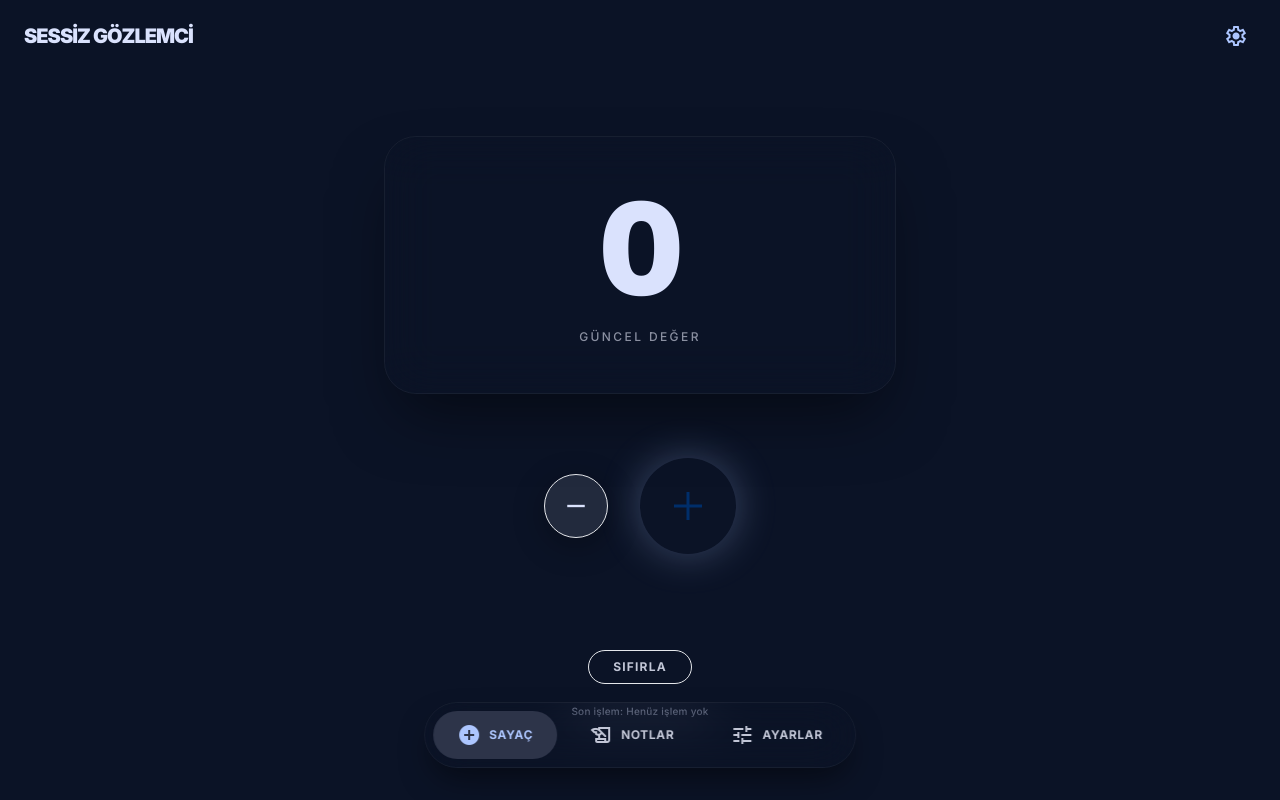
App integration › opens reset modal and confirms
Click the 3rd button "add" at (688, 506), box x1=640 y1=458 x2=736 y2=554
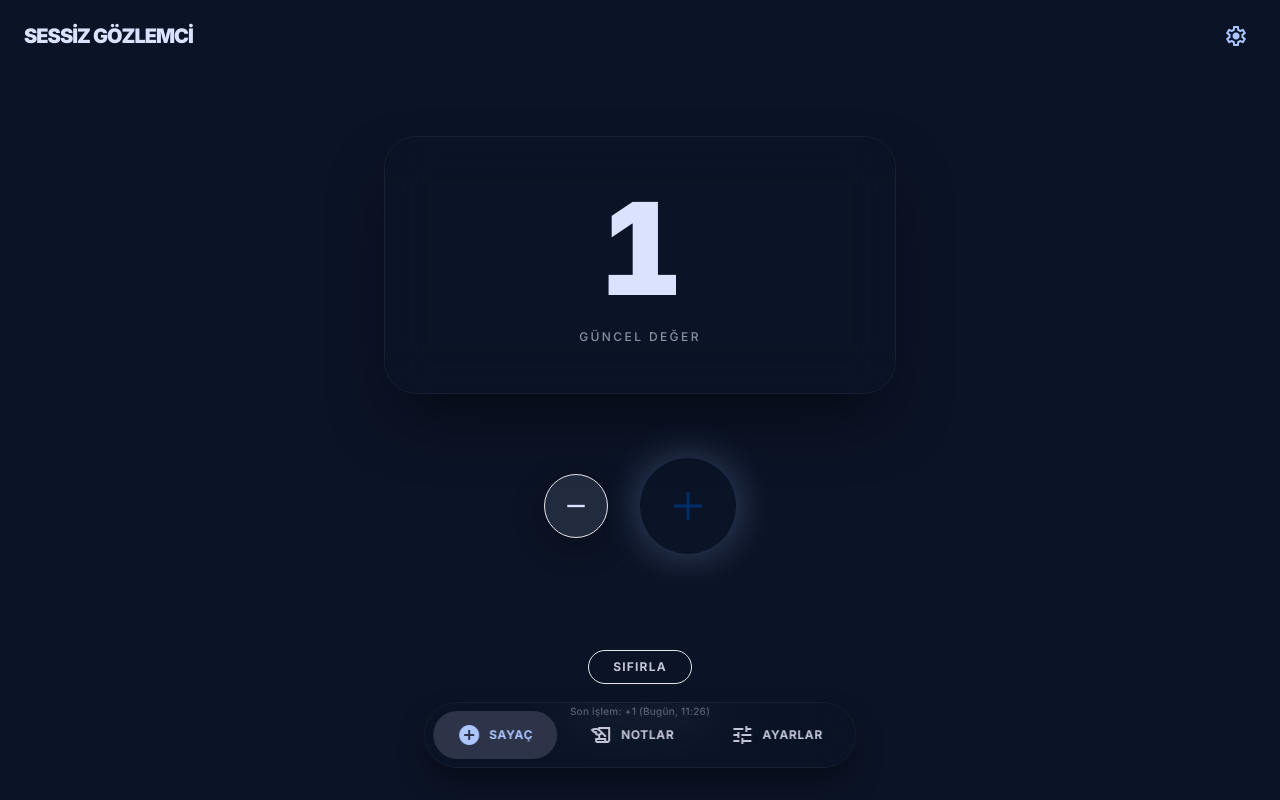
Click the 3rd button "add" at (688, 506), box x1=640 y1=458 x2=736 y2=554
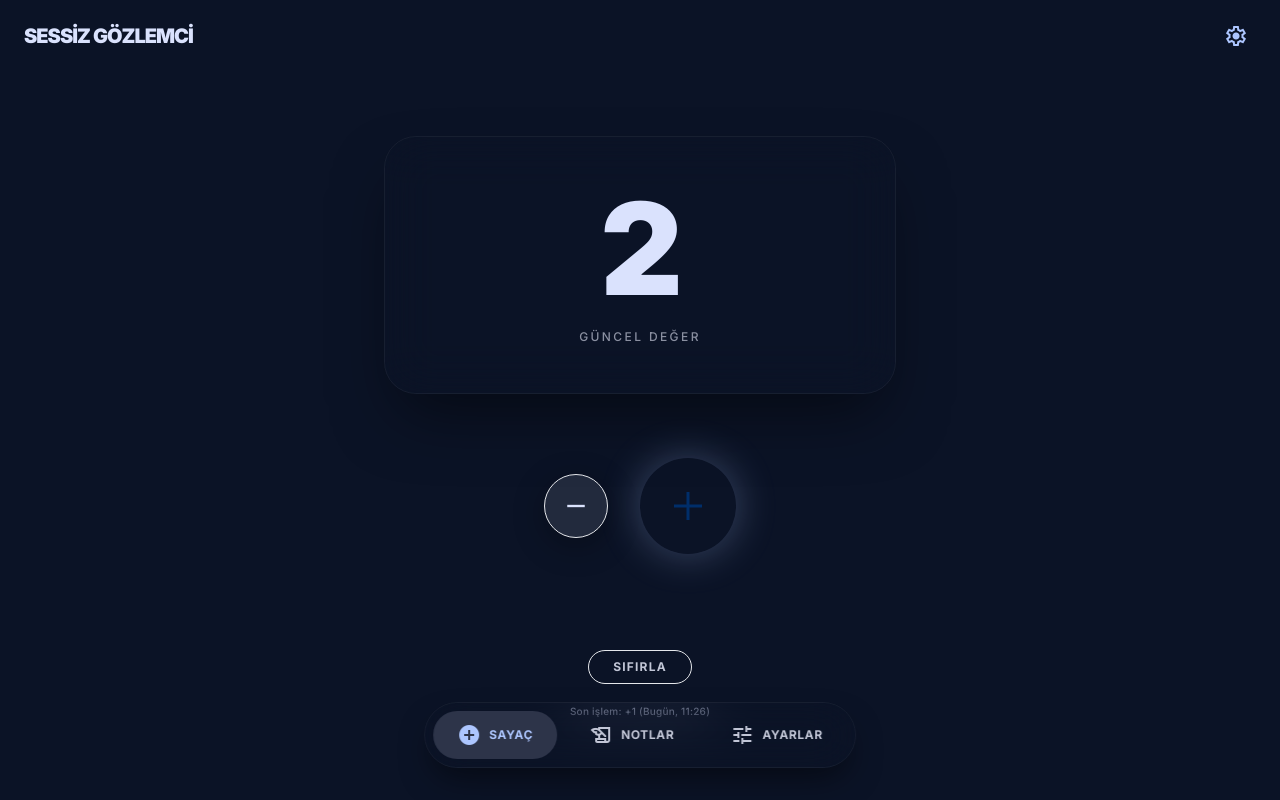
Expected: the text "2" is shown, x1=600 y1=185 x2=680 y2=313
Click the button "SIFIRLA" at (640, 667), box x1=588 y1=650 x2=692 y2=684
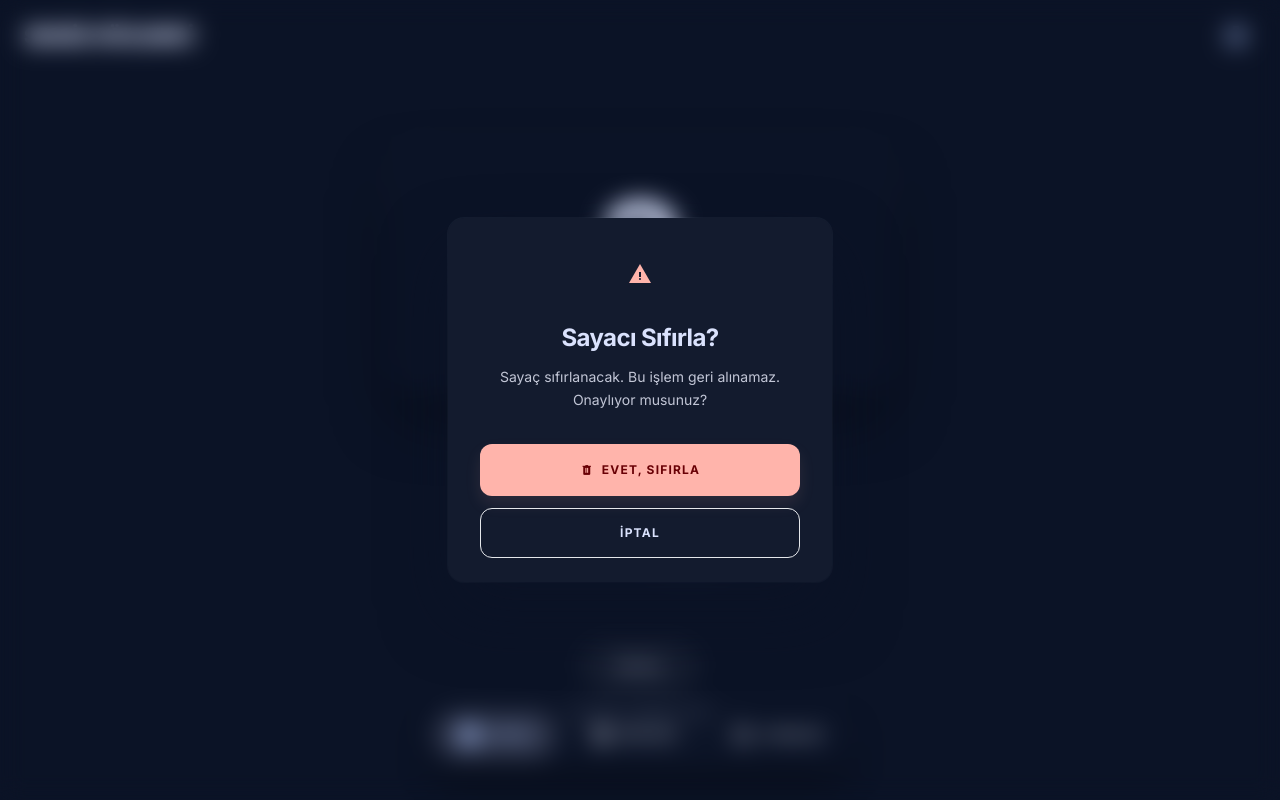
Expected: the heading "Sayacı Sıfırla?" is shown, x1=561 y1=322 x2=719 y2=354
Click the text "EVET, SIFIRLA" at (651, 470), box x1=602 y1=462 x2=700 y2=478
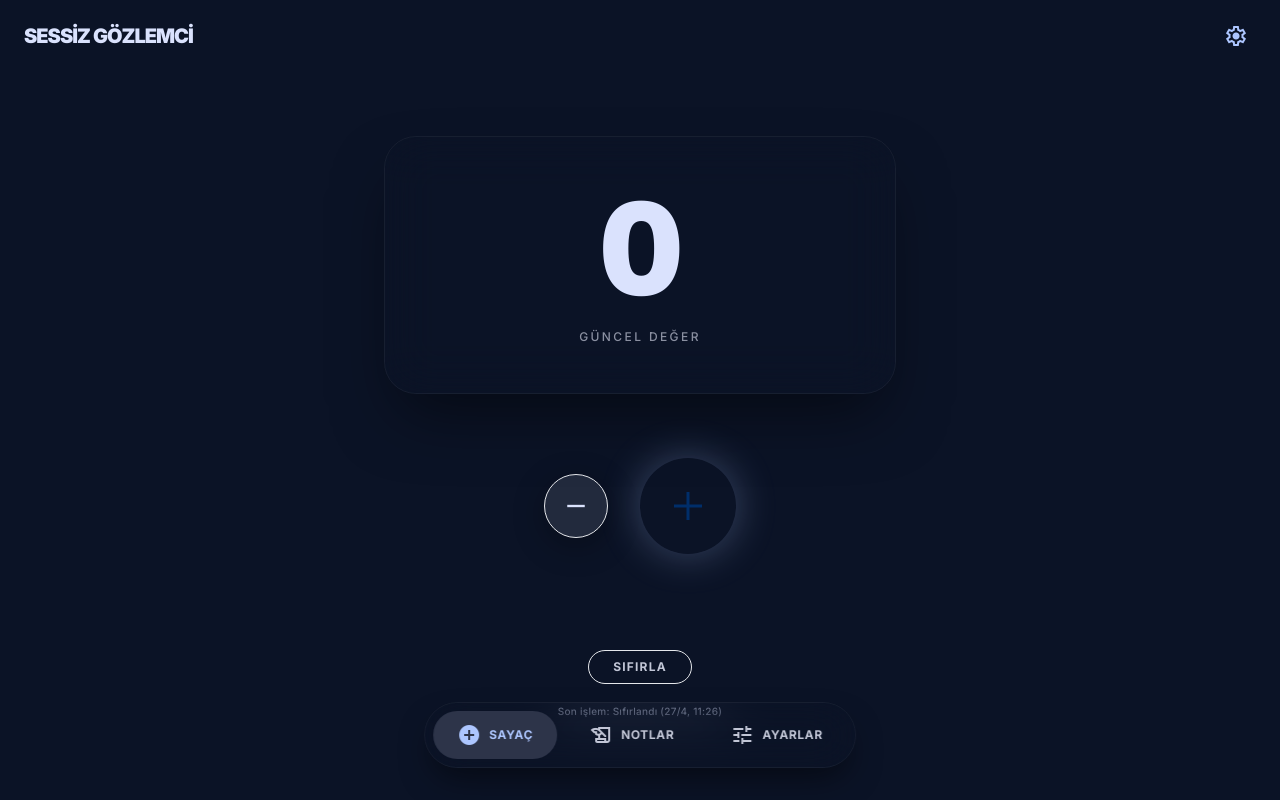
Expected: the text "0" is shown, x1=600 y1=185 x2=680 y2=313
